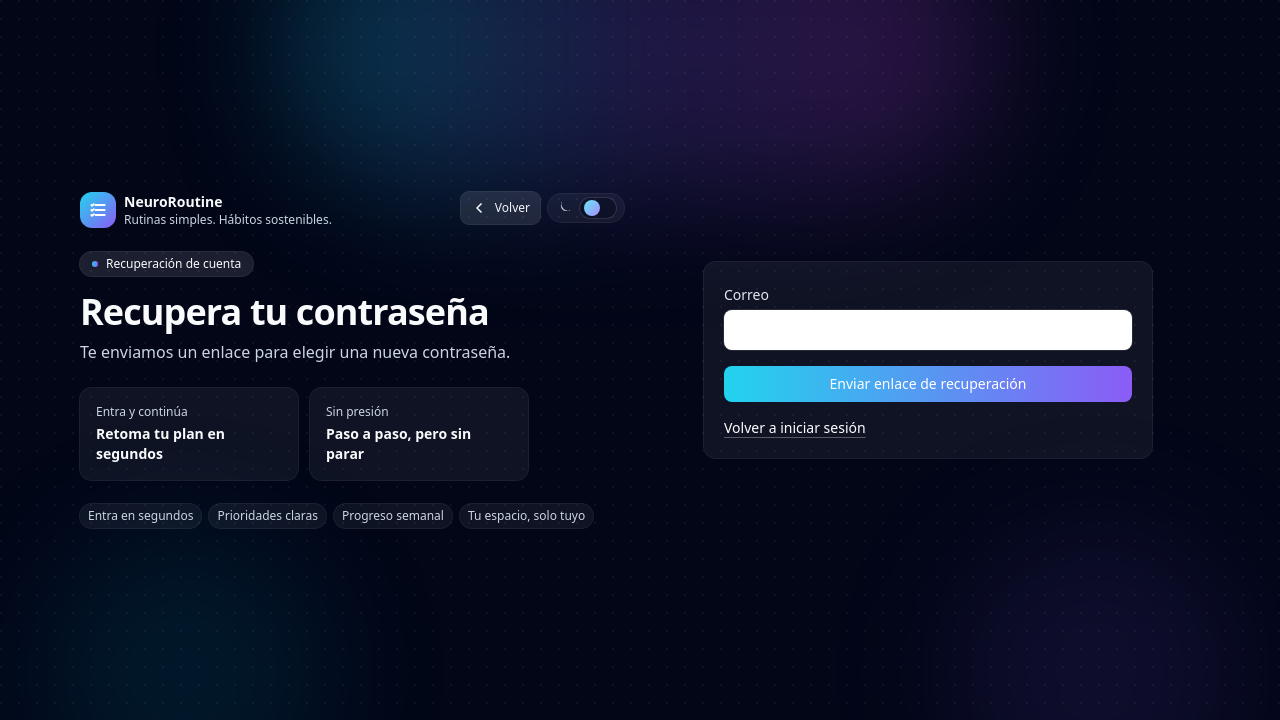
Test case: ForgotPasswordPage › shows a validation error for an empty email
What coordinates should you click on to do the following:
click the button "Enviar enlace de recuperación"
I would click on:
 (928, 384)
Its box is [724, 366, 1132, 402].
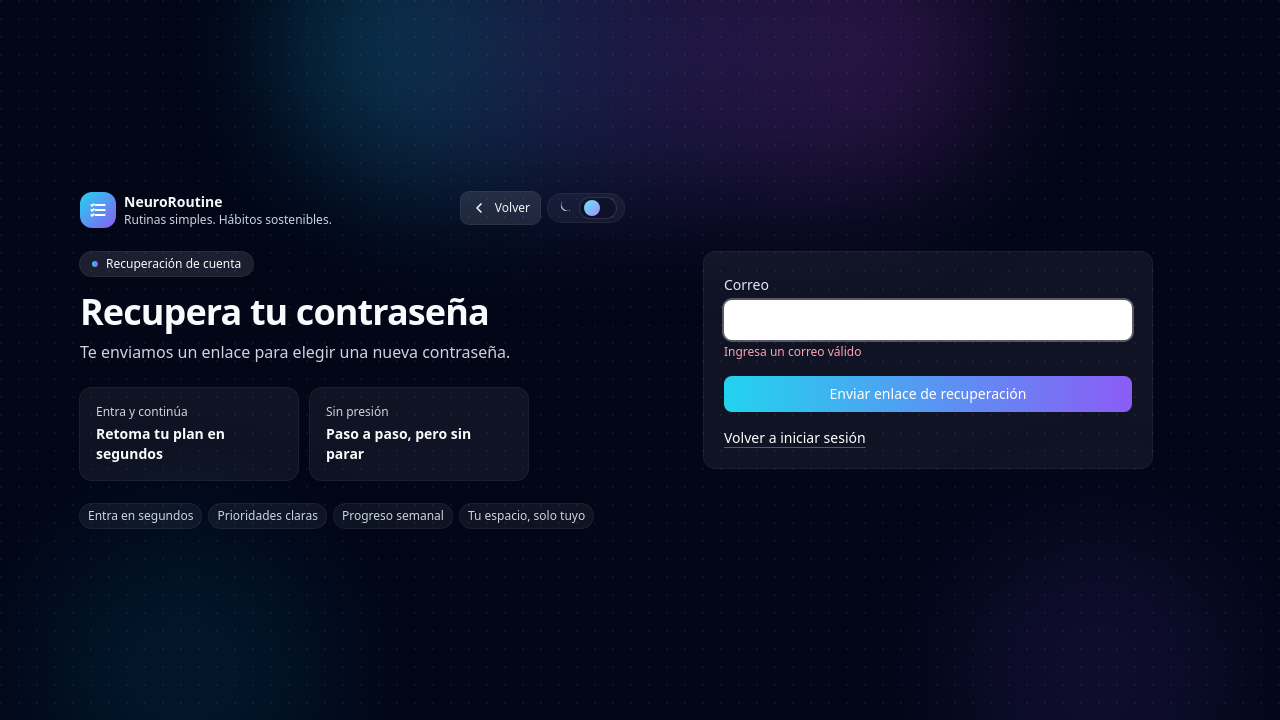
Now the text "Ingresa un correo válido" is shown, box [724, 343, 861, 360]
